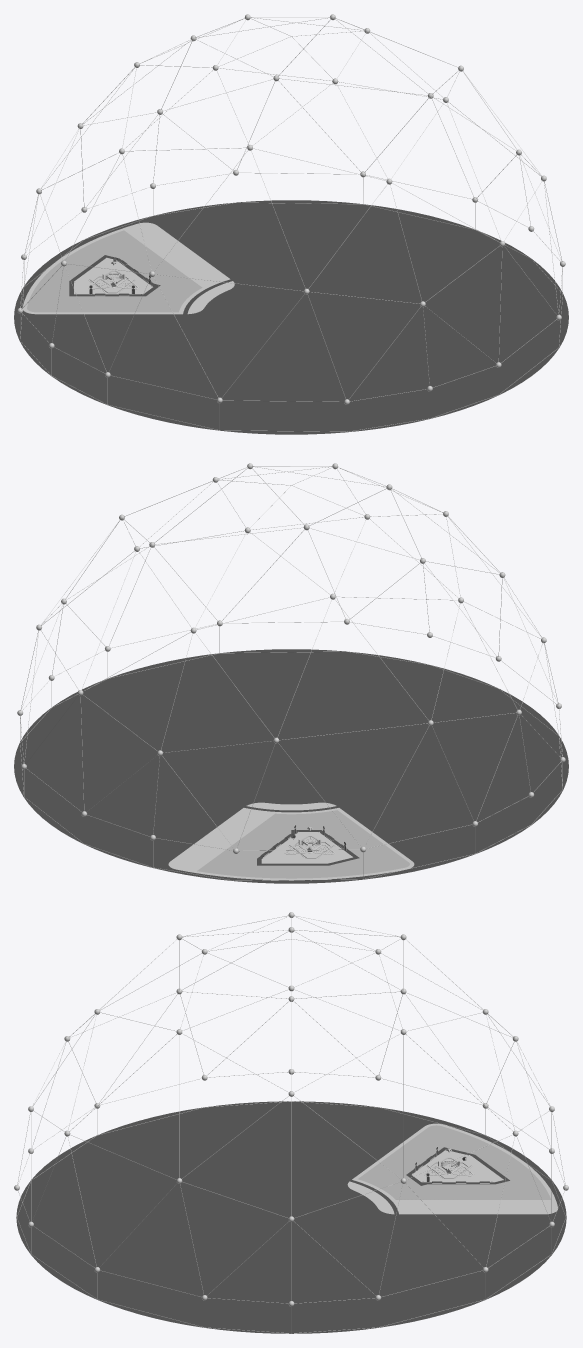
File: XNR_1_UV1_0.FBX
3 renders of one model, top to bottom at view 1: azimuth 30°, elevation 25°; view 2: azimuth 150°, elevation 25°; view 3: azimuth 270°, elevation 25°, orthographic.
Parts seen in each view (by area): view 1: XNR_1_UV1_4, XNR_1_UV1_3, XNR_1_UV1_6, XNR_1_UV1_5, XNR_1_UV1_2, XNR_1_UV1_7, XNR_1_UV1_8; view 2: XNR_1_UV1_4, XNR_1_UV1_3, XNR_1_UV1_6, XNR_1_UV1_5, XNR_1_UV1_7, XNR_1_UV1_2, XNR_1_UV1_8; view 3: XNR_1_UV1_4, XNR_1_UV1_3, XNR_1_UV1_6, XNR_1_UV1_5, XNR_1_UV1_7, XNR_1_UV1_2, XNR_1_UV1_8.
Boxes of the visible parts, x1,y1,x2,y2 form: XNR_1_UV1_4: (14, 200, 568, 434); XNR_1_UV1_3: (20, 17, 562, 431); XNR_1_UV1_6: (27, 230, 202, 312); XNR_1_UV1_5: (22, 222, 234, 314); XNR_1_UV1_2: (17, 14, 565, 404); XNR_1_UV1_7: (74, 257, 152, 294); XNR_1_UV1_8: (69, 255, 160, 296); XNR_1_UV1_4: (14, 649, 568, 883); XNR_1_UV1_3: (20, 466, 562, 880); XNR_1_UV1_6: (197, 810, 409, 878); XNR_1_UV1_5: (168, 802, 414, 880); XNR_1_UV1_7: (261, 832, 352, 863); XNR_1_UV1_2: (17, 463, 565, 853); XNR_1_UV1_8: (257, 830, 359, 865); XNR_1_UV1_4: (16, 1101, 566, 1333); XNR_1_UV1_3: (17, 915, 565, 1333); XNR_1_UV1_6: (358, 1125, 550, 1199); XNR_1_UV1_5: (347, 1123, 557, 1214); XNR_1_UV1_7: (412, 1150, 503, 1182); XNR_1_UV1_2: (14, 912, 568, 1306); XNR_1_UV1_8: (406, 1147, 509, 1185).
Size of the model in its own units: 373 by 207 by 373.
Materials: 20 (20 with a texture image).
